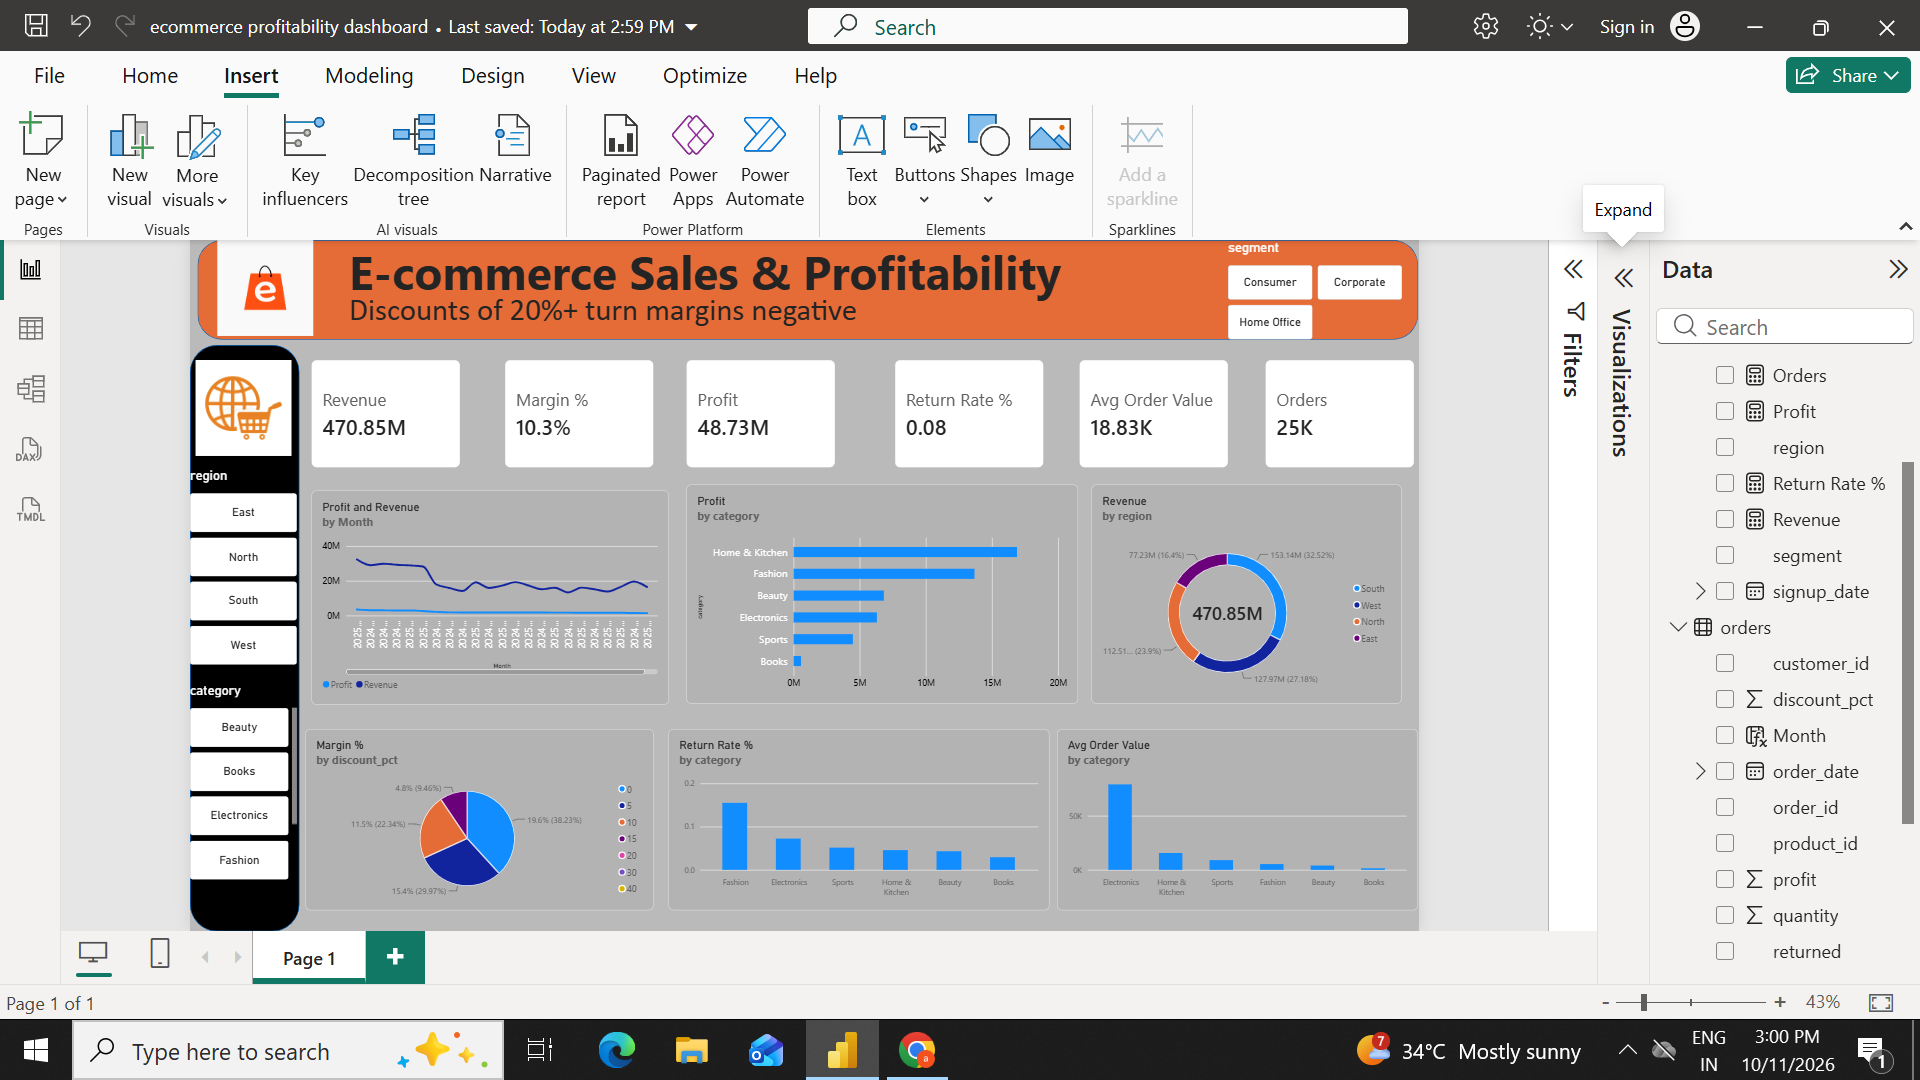

The dashboard page shown, as its layout file describes it:
{"tool":"powerbi","page":{"name":"Page 1","canvas":[1920,1080],"ordinal":0},"visuals":[{"type":"shape","box":[11.3,0,1907.7,155.9],"z":0},{"type":"shape","box":[0,164.1,171.1,916.7],"z":1000},{"type":"cardVisual","fields":{"Data":["customers.Revenue"]},"box":[189.9,187.6,232.1,168.8],"z":2000},{"type":"cardVisual","fields":{"Data":["customers.Return Rate %"]},"box":[1101.9,187.6,232.1,168.8],"z":3000},{"type":"cardVisual","fields":{"Data":["customers.Profit"]},"box":[776.7,187.1,232.1,168.8],"z":4000},{"type":"cardVisual","fields":{"Data":["customers.Margin %"]},"box":[492.3,187.6,232.1,168.8],"z":5000},{"type":"cardVisual","fields":{"Data":["customers.Avg Order Value"]},"box":[1390.3,187.6,232.1,168.8],"z":6000},{"type":"cardVisual","fields":{"Data":["customers.Orders"]},"box":[1681,187.6,232.1,168.8],"z":7000},{"type":"lineChart","fields":{"Y":["customers.Profit","customers.Revenue"],"Category":["orders.Month"]},"box":[189.9,391.2,558.4,334.5],"z":8000},{"type":"clusteredBarChart","fields":{"Category":["products.category"],"Y":["customers.Profit"]},"box":[776.7,382.7,612.3,343],"z":9000},{"type":"pieChart","fields":{"Category":["orders.discount_pct"],"Y":["customers.Margin %"]},"box":[181.4,765.4,544.3,283.5],"z":10000},{"type":"lineClusteredColumnComboChart","fields":{"Category":["products.category"],"Y":["customers.Return Rate %"]},"box":[748.4,765.4,595.3,283.5],"z":11000},{"type":"donutChart","fields":{"Category":["customers.region"],"Y":["customers.Revenue"]},"box":[1408.8,382.7,484.7,343],"z":12000},{"type":"lineClusteredColumnComboChart","fields":{"Category":["products.category"],"Y":["customers.Avg Order Value"]},"box":[1355,765.4,564.1,283.5],"z":13000},{"type":"advancedSlicerVisual","fields":{"Values":["products.category"]},"box":[0,691.7,167.2,309],"z":13001},{"type":"advancedSlicerVisual","fields":{"Values":["customers.region"]},"box":[0,357.2,167.2,309],"z":13002},{"type":"advancedSlicerVisual","fields":{"Values":["customers.segment"]},"box":[1621.4,0,272.1,155.9],"z":13003},{"type":"textbox","box":[249.5,0,1182.1,113.4],"z":13004},{"type":"textbox","box":[249.5,79.4,853.2,76.5],"z":13005},{"type":"image","box":[0,0,235.3,150.2],"z":13006},{"type":"image","box":[0,187.1,167.2,150.2],"z":13007}]}

Visuals, with their boxes on the page's 1920x1080 design canvas (x1, y1, x2, y2). These are canvas units, not pixel positions in the 1920x1080 screenshot, which may show the page scaled, cropped or inside an application window:
shape: left=11, top=0, right=1919, bottom=156
shape: left=0, top=164, right=171, bottom=1081
cardVisual - customers.Revenue: left=190, top=188, right=422, bottom=356
cardVisual - customers.Return Rate %: left=1102, top=188, right=1334, bottom=356
cardVisual - customers.Profit: left=777, top=187, right=1009, bottom=356
cardVisual - customers.Margin %: left=492, top=188, right=724, bottom=356
cardVisual - customers.Avg Order Value: left=1390, top=188, right=1622, bottom=356
cardVisual - customers.Orders: left=1681, top=188, right=1913, bottom=356
lineChart - customers.Profit x customers.Revenue: left=190, top=391, right=748, bottom=726
clusteredBarChart - products.category x customers.Profit: left=777, top=383, right=1389, bottom=726
pieChart - orders.discount_pct x customers.Margin %: left=181, top=765, right=726, bottom=1049
lineClusteredColumnComboChart - products.category x customers.Return Rate %: left=748, top=765, right=1344, bottom=1049
donutChart - customers.region x customers.Revenue: left=1409, top=383, right=1894, bottom=726
lineClusteredColumnComboChart - products.category x customers.Avg Order Value: left=1355, top=765, right=1919, bottom=1049
advancedSlicerVisual - products.category: left=0, top=692, right=167, bottom=1001
advancedSlicerVisual - customers.region: left=0, top=357, right=167, bottom=666
advancedSlicerVisual - customers.segment: left=1621, top=0, right=1894, bottom=156
textbox: left=250, top=0, right=1432, bottom=113
textbox: left=250, top=79, right=1103, bottom=156
image: left=0, top=0, right=235, bottom=150
image: left=0, top=187, right=167, bottom=337
